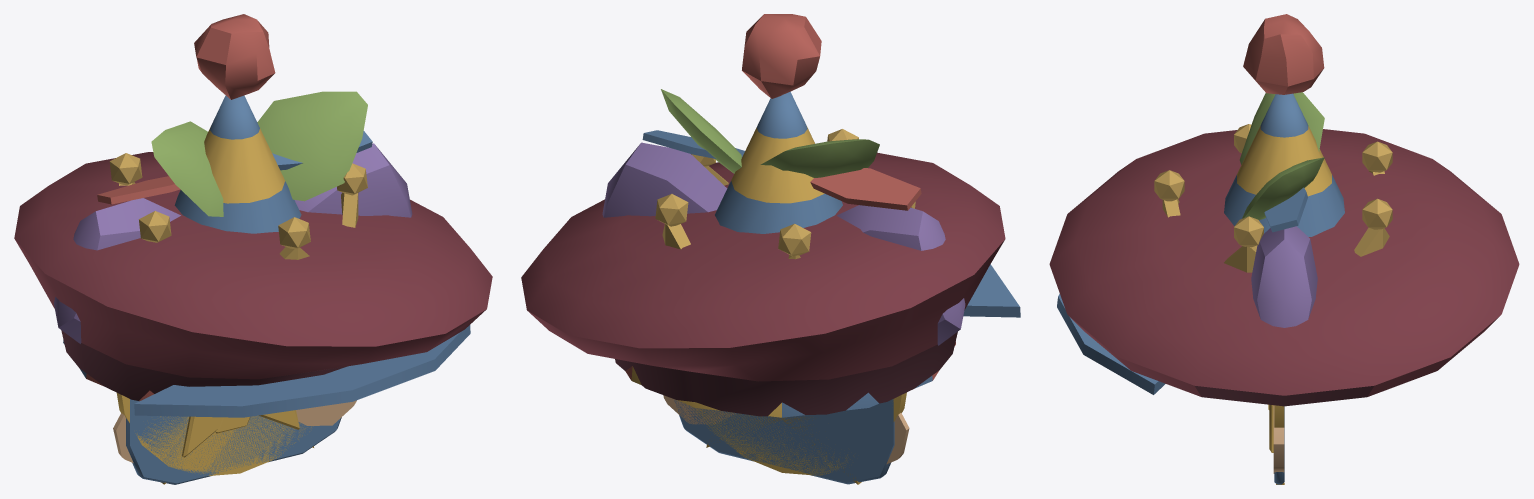
The model's file is enemy_accessories.glb.
The picture shows the model from 3 angles, left to right: view 1: azimuth 30°, elevation 25°; view 2: azimuth 150°, elevation 25°; view 3: azimuth 270°, elevation 25°; orthographic projection. The views are drawn at different scales.
Parts seen in each view (by area): view 1: Acc_BERET, Acc_PARTY_HAT, Acc_SPROUT, Acc_PROPELLER_CAP, Sticker_NUMBER7, Acc_BOW, Sticker_SMILEY, Acc_TINY_CROWN, Sticker_BANDAGE, Sticker_STAR; view 2: Acc_BERET, Acc_PARTY_HAT, Sticker_NUMBER7, Acc_BOW, Acc_PROPELLER_CAP, Acc_SPROUT, Sticker_SMILEY, Acc_TINY_CROWN, Sticker_BANDAGE; view 3: Acc_BERET, Acc_PARTY_HAT, Acc_BOW, Acc_TINY_CROWN, Acc_SPROUT, Acc_PROPELLER_CAP, Sticker_BANDAGE.
Boxes of the visible parts, x1,y1,x2,y2 form: Acc_BERET: (14,152,492,400); Acc_PARTY_HAT: (174,14,301,233); Acc_SPROUT: (151,91,367,216); Acc_PROPELLER_CAP: (63,131,470,417); Sticker_NUMBER7: (126,399,341,484); Acc_BOW: (54,143,412,343); Sticker_SMILEY: (116,393,313,475); Acc_TINY_CROWN: (109,153,367,259); Sticker_BANDAGE: (113,400,356,462); Sticker_STAR: (161,410,313,484); Acc_BERET: (521,152,1005,416); Acc_PARTY_HAT: (715,14,842,233); Sticker_NUMBER7: (674,399,894,484); Acc_BOW: (602,142,965,345); Acc_PROPELLER_CAP: (625,130,1020,417); Acc_SPROUT: (661,89,879,177); Sticker_SMILEY: (692,392,906,475); Acc_TINY_CROWN: (655,129,915,259); Sticker_BANDAGE: (663,395,909,464); Acc_BERET: (1049,129,1519,406); Acc_PARTY_HAT: (1224,14,1344,236); Acc_BOW: (1251,226,1317,327); Acc_TINY_CROWN: (1154,124,1392,272); Acc_SPROUT: (1239,92,1324,219); Acc_PROPELLER_CAP: (1057,187,1307,394); Sticker_BANDAGE: (1273,405,1284,473).
Bounding box in the file's own units: 0.2746 × 0.2833 × 0.278.
